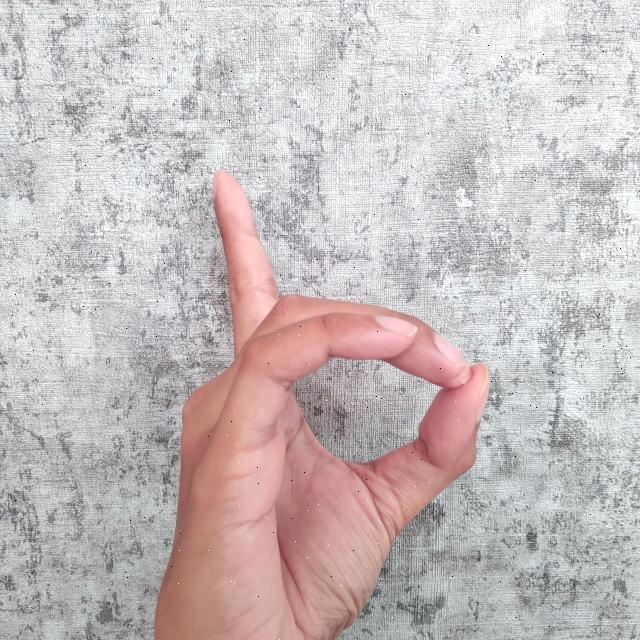D: (155, 170, 494, 640)
